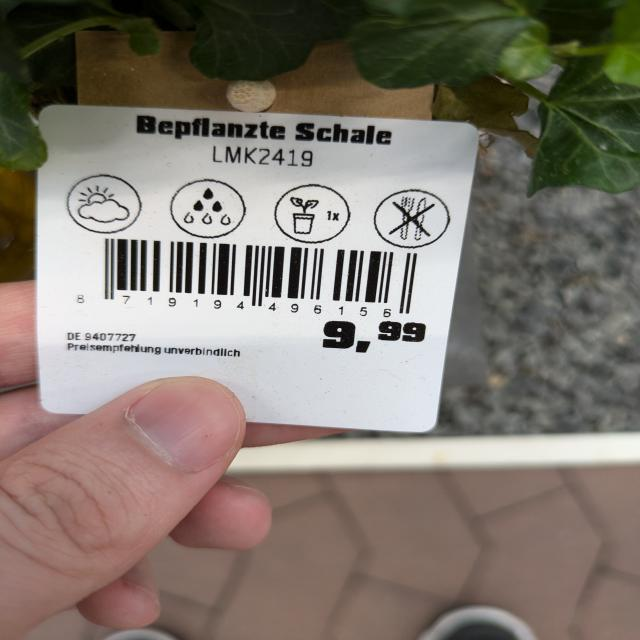dungen: (271, 181, 354, 246)
halb sonnig schattig: (63, 164, 142, 238)
mittel giesen: (171, 177, 250, 241)
